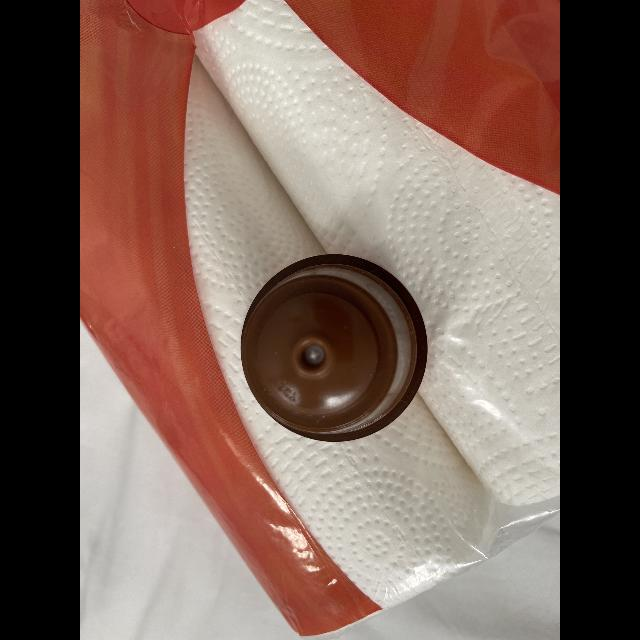intact_capsule: (228, 242, 444, 460)
